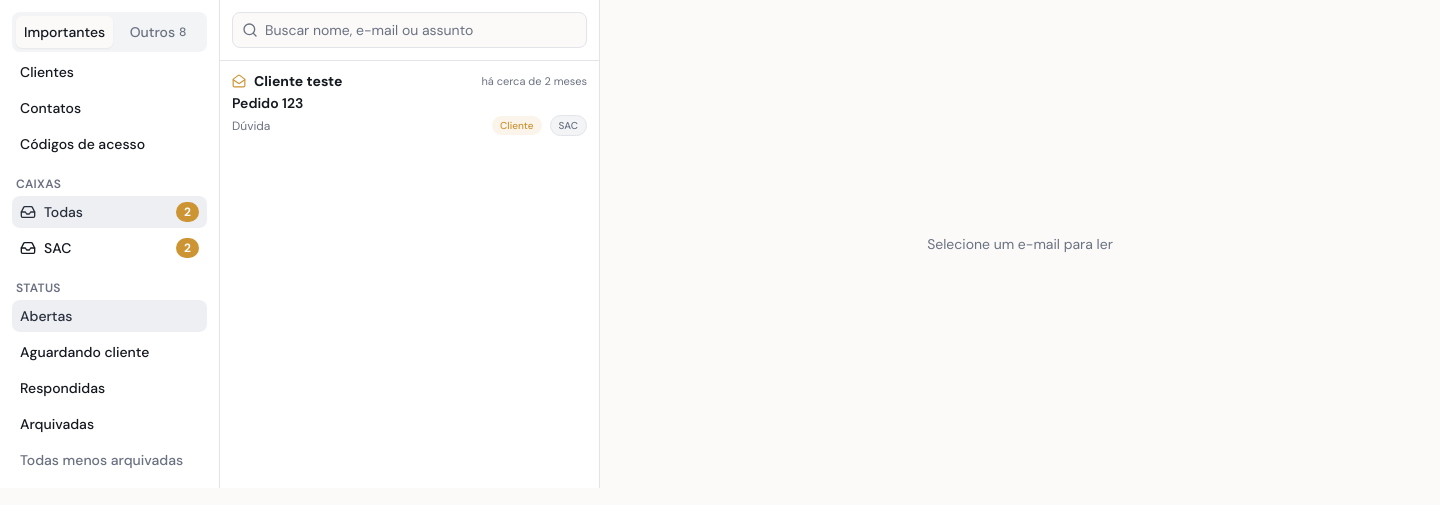
Test case: Inbox E-mail › usa texto novo sanitizado e alterna para o corpo completo
This screenshot has width=1440, height=505.
Click the button "Cliente teste".
click(298, 81)  # box [220,61,599,146]
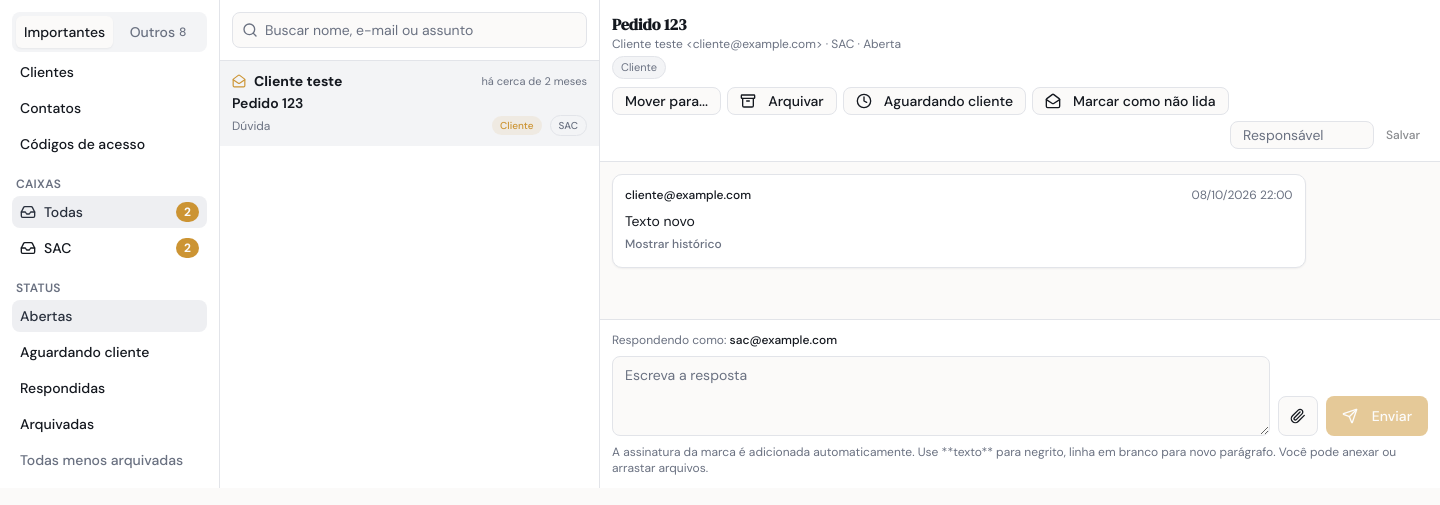
Expected: the text "Conteúdo citado" is not shown
Expected: the text "Texto novo" is shown, [625,212,695,230]
Click the button "Mostrar histórico".
click(673, 244)  # box [625,236,722,252]
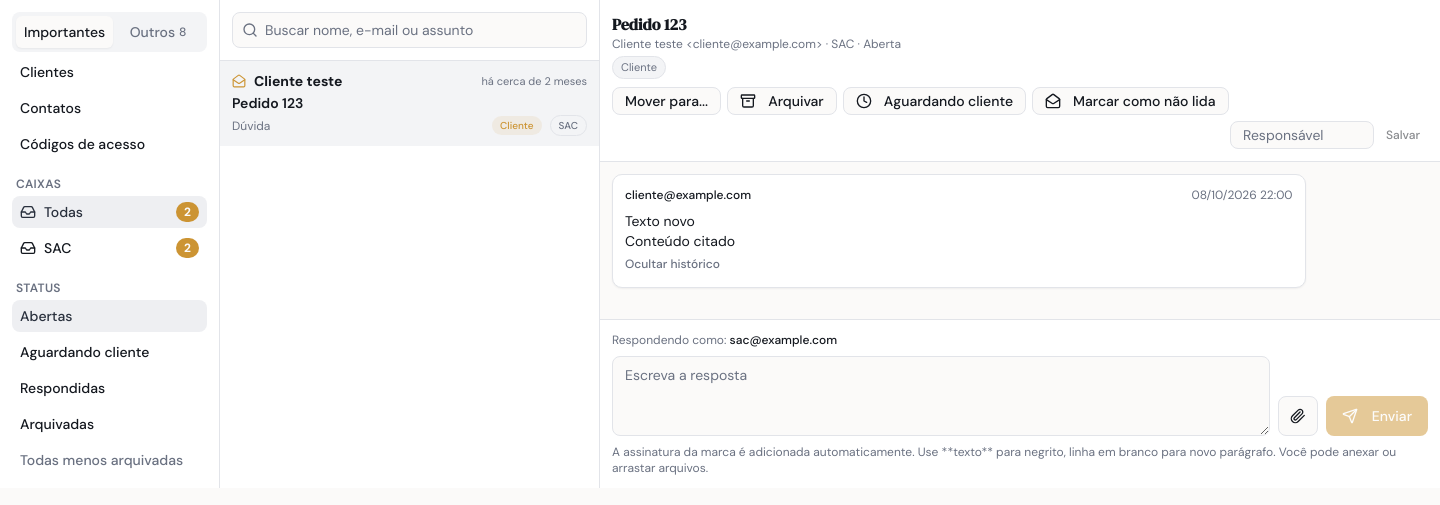
Expected: the text "Conteúdo citado" is shown, [625,232,735,250]
Click the button "Ocultar histórico".
click(672, 264)  # box [625,256,720,272]
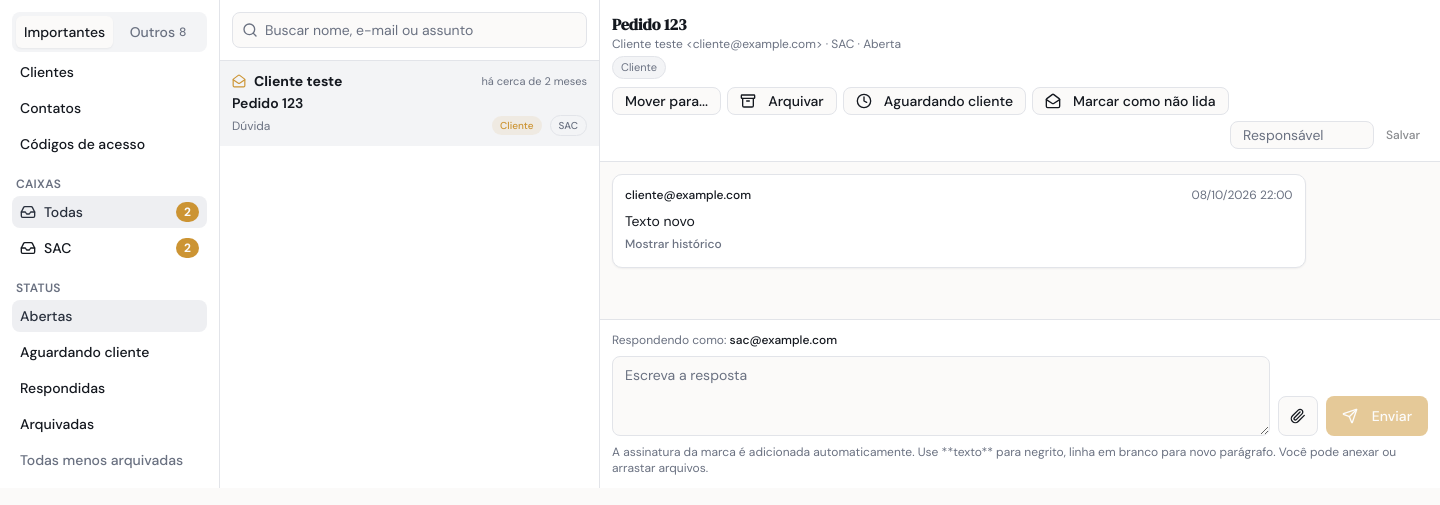
Expected: the text "Conteúdo citado" is gone
